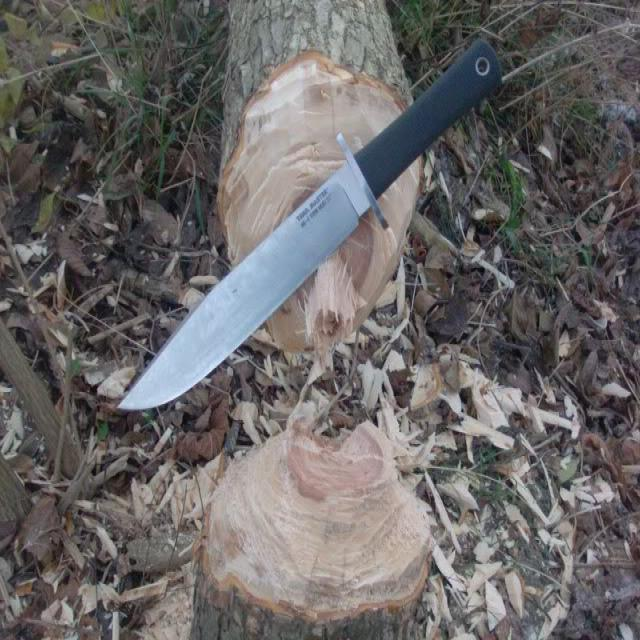knife: (96, 24, 527, 443)
